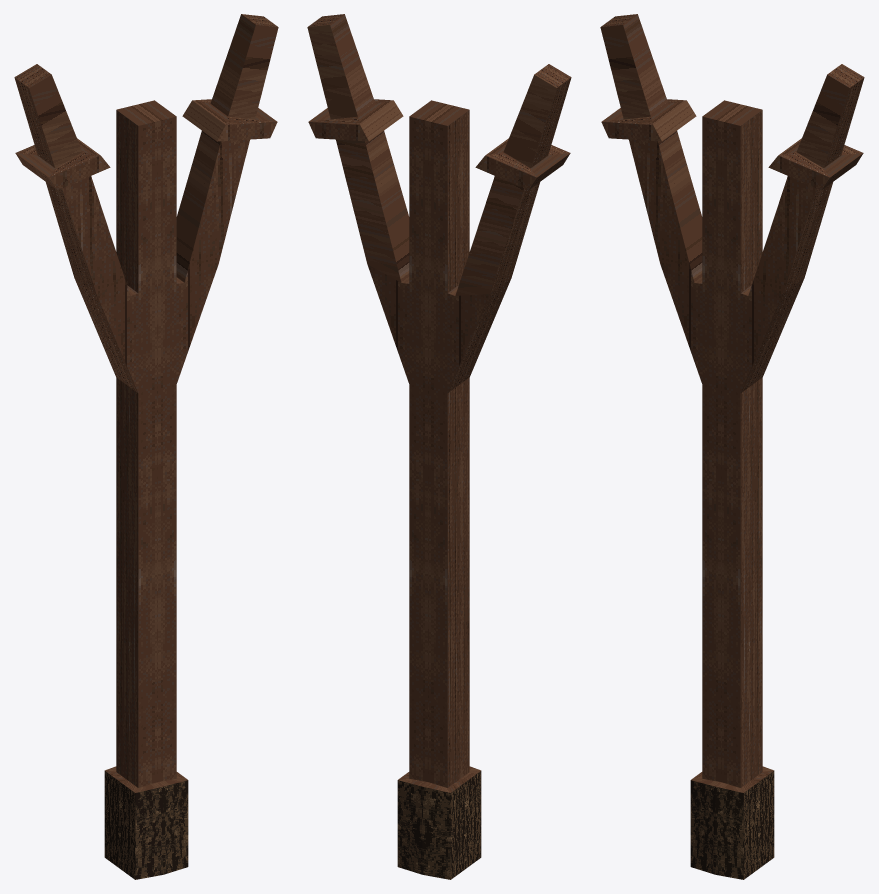
3 views of the same model, side by side, from view 1: azimuth 30°, elevation 25°; view 2: azimuth 150°, elevation 25°; view 3: azimuth 330°, elevation 25° (orthographic).
Parts seen in each view (by area): view 1: Cube; view 2: Cube; view 3: Cube.
Part boxes in pixels (left/top/right/bottom): Cube: left=14, top=14, right=278, bottom=879; Cube: left=307, top=14, right=571, bottom=879; Cube: left=600, top=14, right=864, bottom=879.
Size of the model in its own units: 0.759 by 2.38 by 0.1823.
2 materials, 2 textured.
